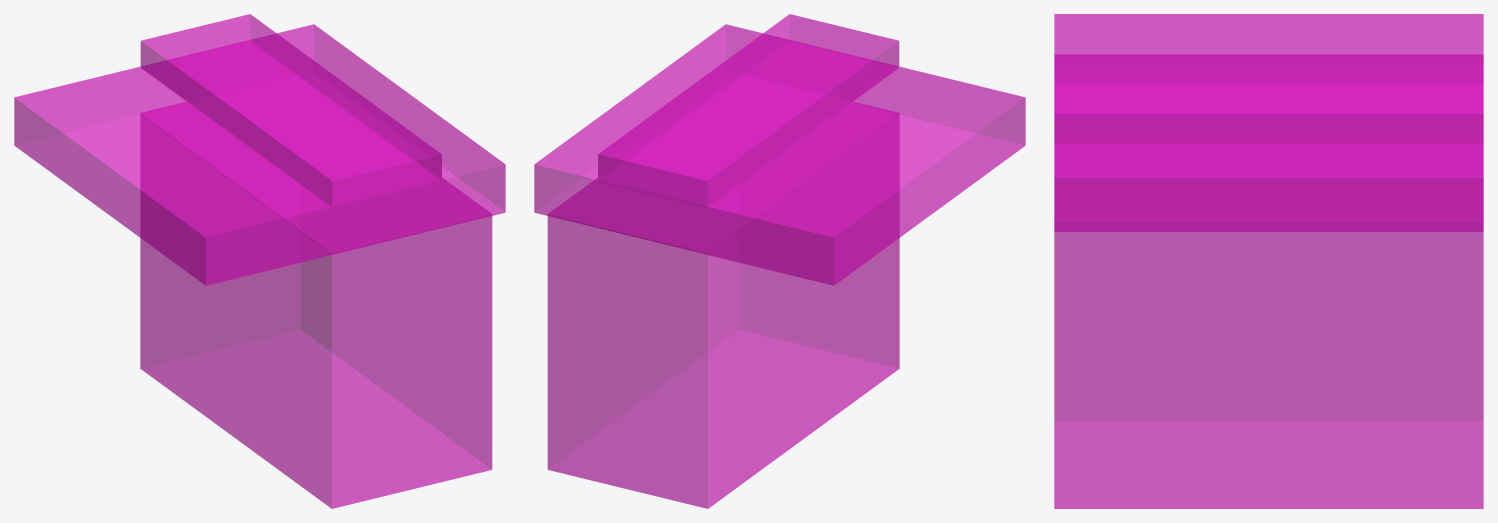
The model's file is SM_Prop_Sushi_Bar_01_Collision.fbx.
The picture shows the model from 3 angles, left to right: view 1: azimuth 30°, elevation 25°; view 2: azimuth 150°, elevation 25°; view 3: azimuth 270°, elevation 25°; orthographic projection. The views are drawn at different scales.
Visible parts, largest first — view 1: SM_Prop_Sushi_Bar_01_Collision; view 2: SM_Prop_Sushi_Bar_01_Collision; view 3: SM_Prop_Sushi_Bar_01_Collision.
Boxes of the visible parts, box(x1,y1,x2,y2) form: SM_Prop_Sushi_Bar_01_Collision: box(14, 14, 505, 508); SM_Prop_Sushi_Bar_01_Collision: box(534, 14, 1025, 508); SM_Prop_Sushi_Bar_01_Collision: box(1054, 14, 1483, 508).
Bounding box in the file's own units: 117 × 122 × 129.
